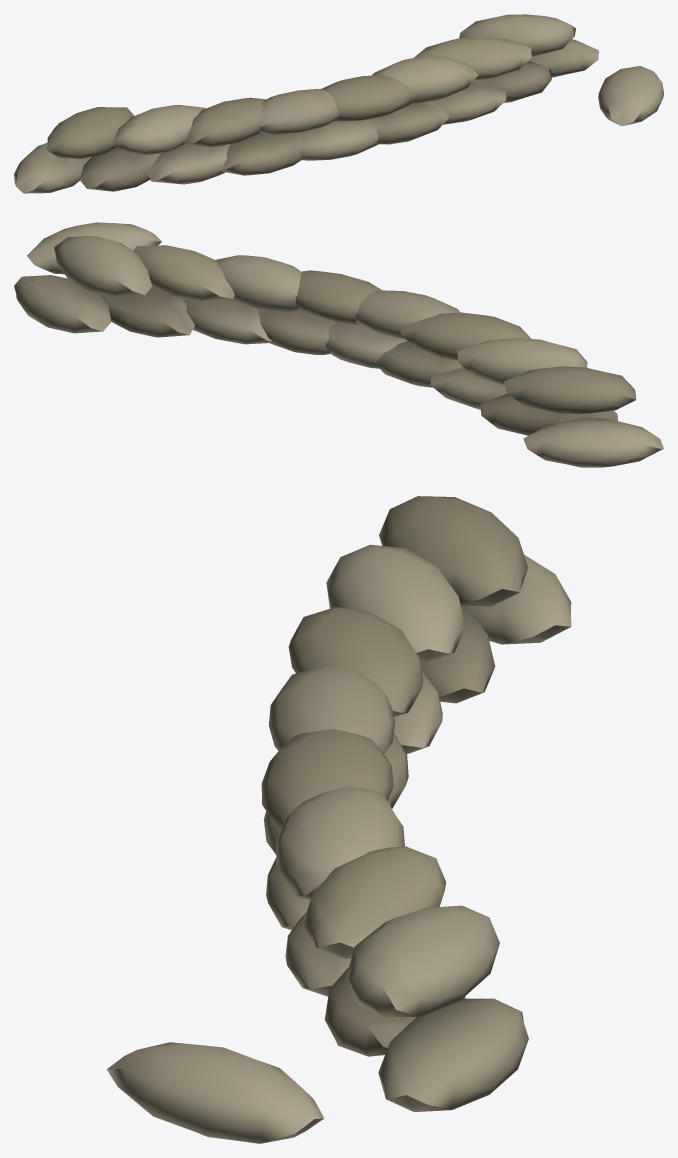
Rendered from sandbag_berm_a.glb.
The picture shows the model from 3 angles, top to bottom: view 1: azimuth 30°, elevation 25°; view 2: azimuth 150°, elevation 25°; view 3: azimuth 270°, elevation 25°; orthographic projection. The views are drawn at different scales.
Parts seen in each view (by area): view 1: Surface; view 2: Surface; view 3: Surface.
Part boxes in pixels (x1=…): Surface: x1=14, y1=14, x2=663, y2=193; Surface: x1=14, y1=222, x2=663, y2=467; Surface: x1=107, y1=496, x2=571, y2=1143.
Bounding box in the file's own units: 3.72 × 0.429 × 1.25.
